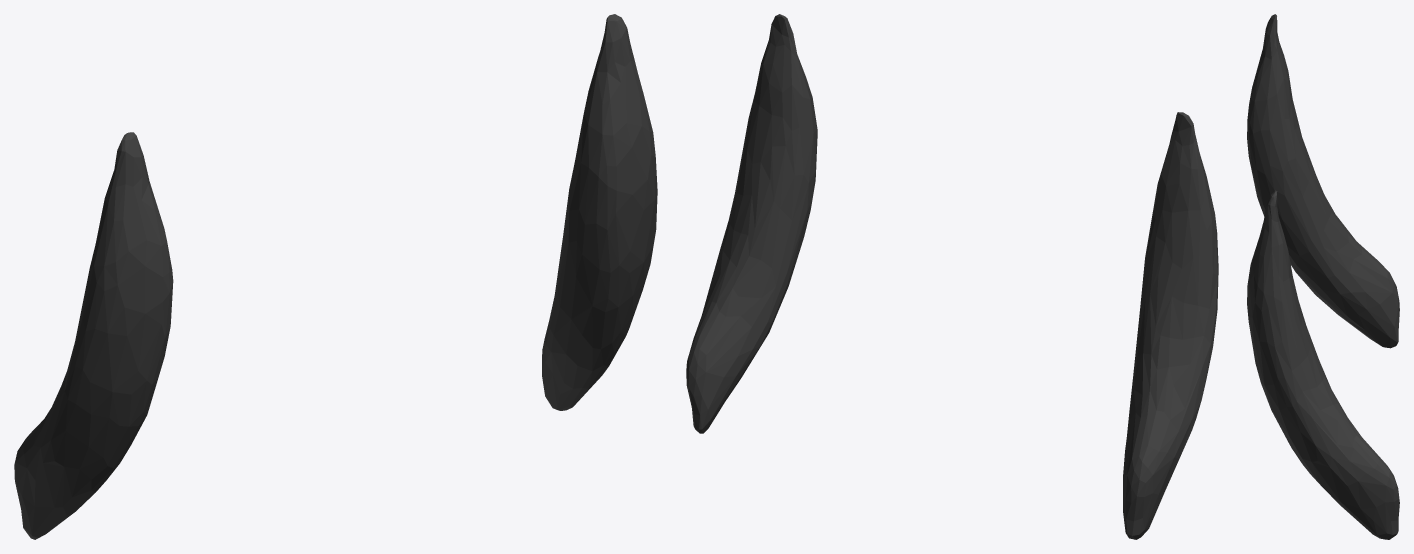
Rendered from m_quadriceps_vastus_intermedius.glb.
The picture shows the model from 3 angles, left to right: view 1: azimuth 30°, elevation 25°; view 2: azimuth 150°, elevation 25°; view 3: azimuth 270°, elevation 25°; orthographic projection. The views are drawn at different scales.
Parts seen in each view (by area): view 1: m_quadriceps_vastus_intermedius; view 2: m_quadriceps_vastus_intermedius; view 3: m_quadriceps_vastus_intermedius.
Boxes of the visible parts, x1,y1,x2,y2 form: m_quadriceps_vastus_intermedius: [14, 14, 657, 539]; m_quadriceps_vastus_intermedius: [686, 14, 1218, 539]; m_quadriceps_vastus_intermedius: [1247, 14, 1399, 539].
Size of the model in its own units: 0.00508 by 0.00377 by 0.00153.
Materials: 1 (1 with a texture image).
